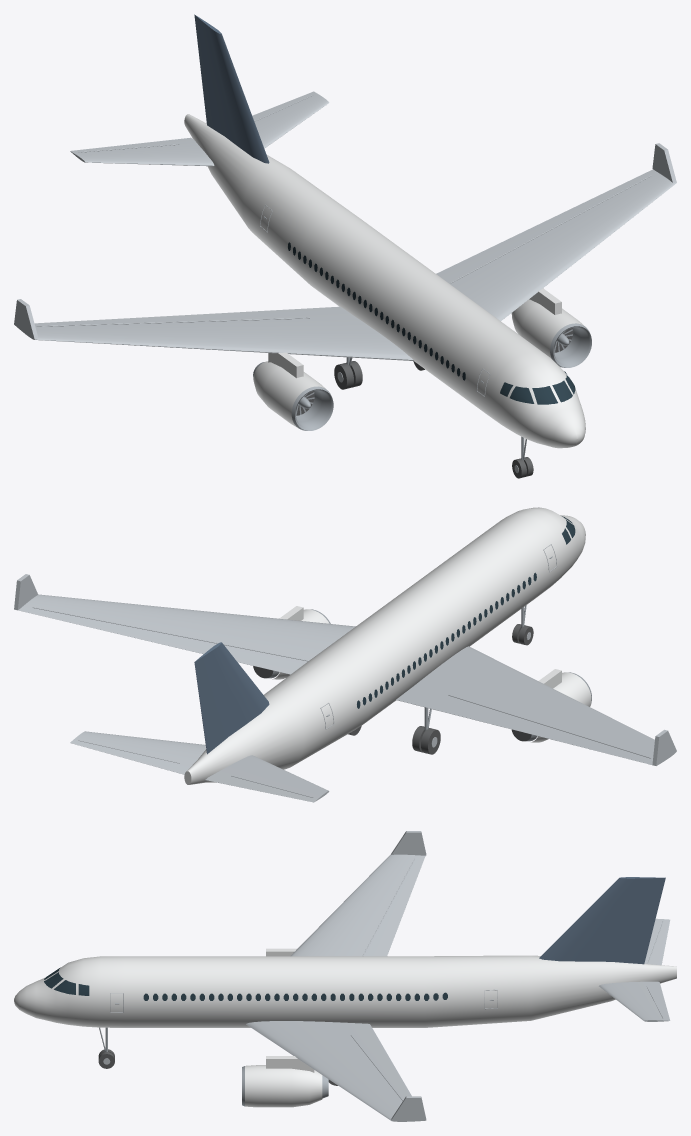
The model's file is aircraft-narrowbody.glb.
The picture shows the model from 3 angles, top to bottom: view 1: azimuth 30°, elevation 25°; view 2: azimuth 150°, elevation 25°; view 3: azimuth 270°, elevation 25°; orthographic projection. The views are drawn at different scales.
Parts seen in each view (by area): view 1: aircraft-narrowbody, gear; view 2: aircraft-narrowbody, gear; view 3: aircraft-narrowbody.
Part boxes in pixels (<box>): aircraft-narrowbody: <box>14,14,676,448</box>; gear: <box>334,357,533,478</box>; aircraft-narrowbody: <box>14,507,676,802</box>; gear: <box>348,605,533,754</box>; aircraft-narrowbody: <box>14,831,676,1121</box>.
Size of the model in its own units: 35.8 by 11.8 by 37.6.
